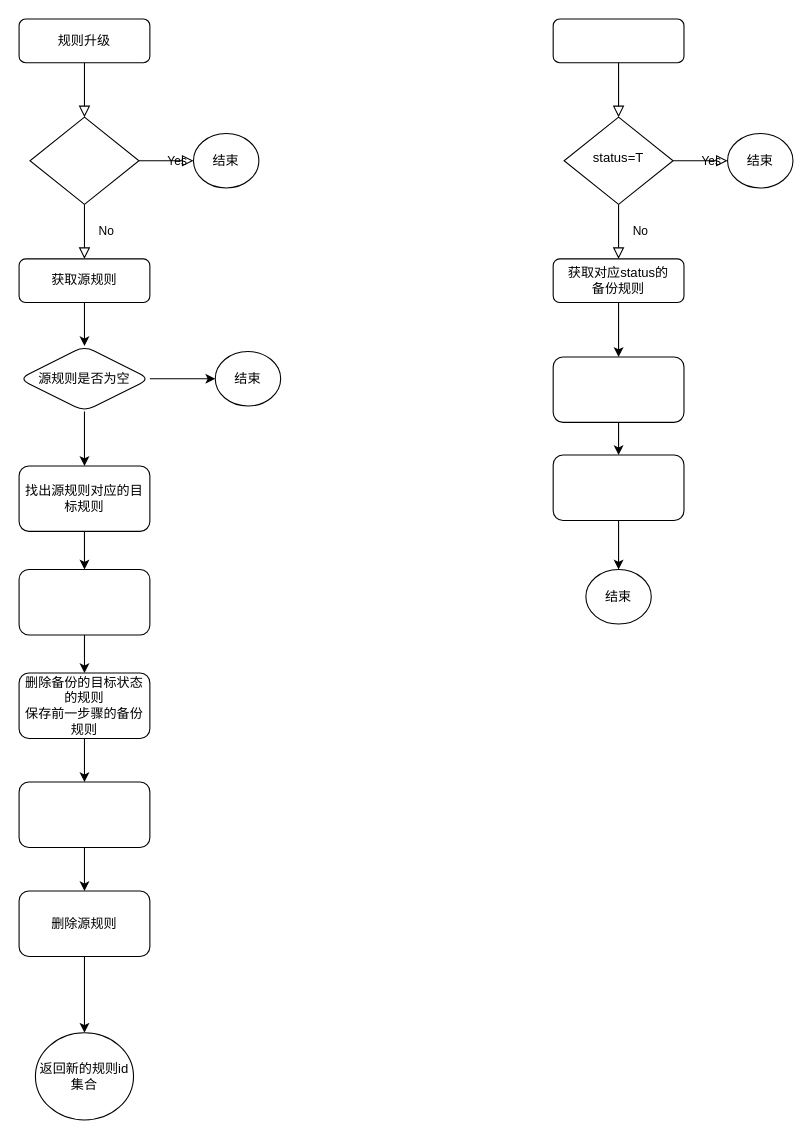
Image size: 812x1139. Some labels were removed from this diagram. Each missing label, with the centre of its shape:
"toStatus=T" belongs at pixel 84 160.
"修改源规则状态为toStatus，保存" belongs at pixel 84 814.
"把备份规则集copy到t_checker_detail表" belongs at pixel 618 487.
"根据备份规则的key，删除t_checker_detail对应status、key规则" belongs at pixel 618 389.
"根据目标规则，生成备份的规则" belongs at pixel 84 601.
"规则回滚" belongs at pixel 618 40.
